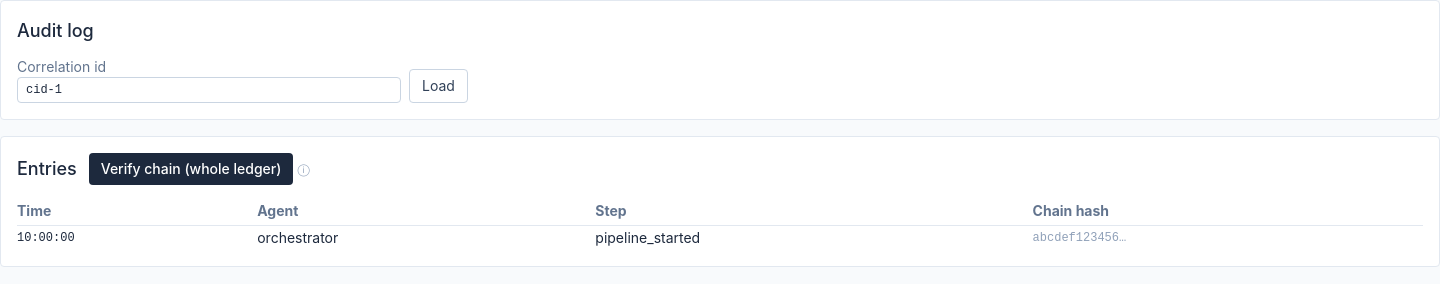
Test: AuditPage › lists entries and verifies the whole ledger (ok)
Check: the text "pipeline_started" is shown, box [595,226,1033,250]
Click the button "Verify chain (whole ledger)" at (191, 169), box [89,153,293,185]
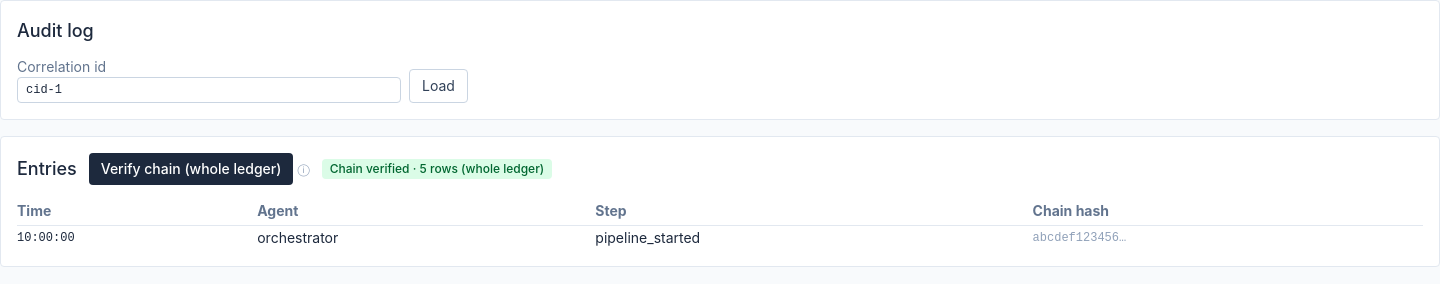
Check: the text "Chain verified · 5 rows (whole ledger)" is shown, box [322,159,552,179]
